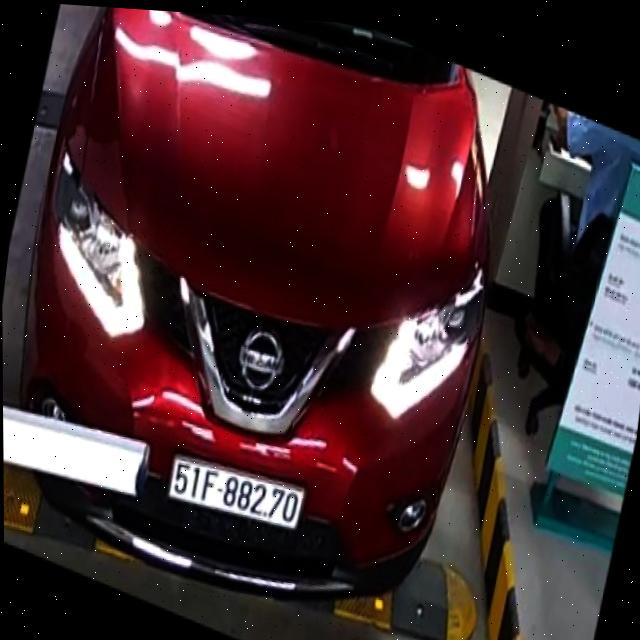car: (0, 0, 521, 637)
plate: (161, 444, 312, 537)
